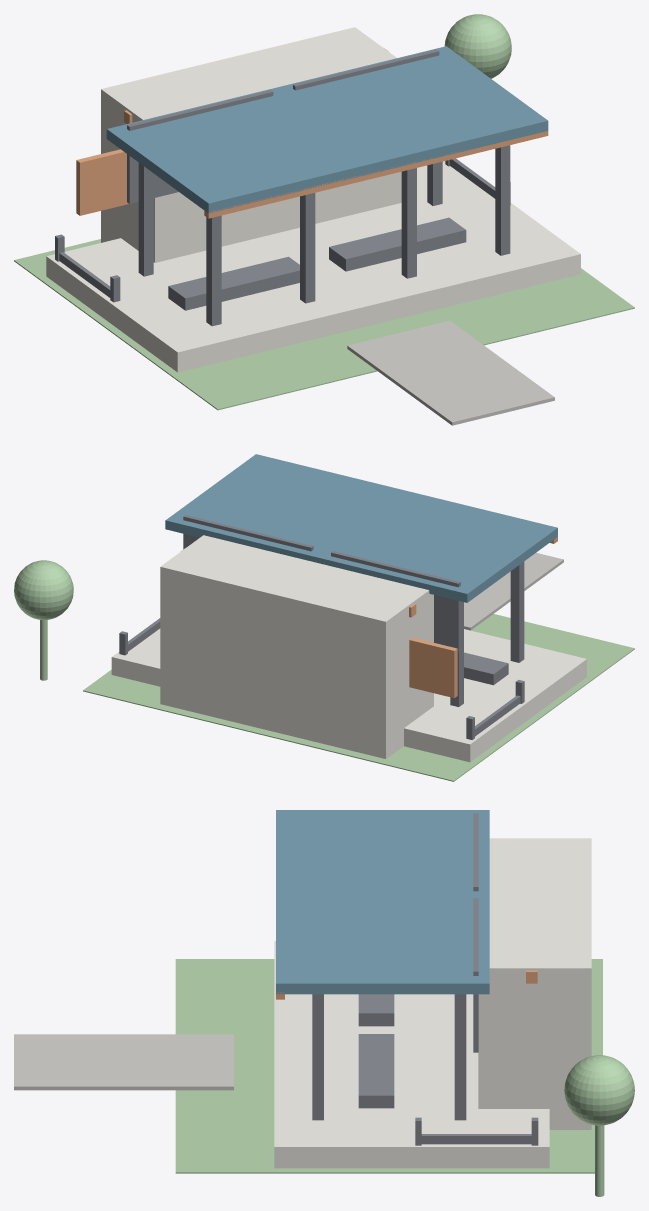
The model's file is BUILDING_CIVIC_SPORTS_PAVILION_001_LOD_CLOSE.glb.
3 renders of one model, top to bottom at view 1: azimuth 30°, elevation 25°; view 2: azimuth 150°, elevation 25°; view 3: azimuth 270°, elevation 25°, orthographic. The views are drawn at different scales.
Visible parts, largest first — view 1: MOD_FOUNDATION_STANDARD_RECT_001, BUILDING_CIVIC_SPORTS_PAVILION_001_CANOPY_ROOF_CLOSE, BUILDING_CIVIC_SPORTS_PAVILION_001_SERVICE_BLOCK_CLOSE, MOD_GROUND_GRASS_STANDARD_001_CLOSE_PATCH, MOD_PATH_STANDARD_001_CLOSE_SURFACE, BUILDING_CIVIC_SPORTS_PAVILION_001_BENCH_CLOSE_1, BUILDING_CIVIC_SPORTS_PAVILION_001_BENCH_CLOSE_0, MOD_TREE_EUCALYPTUS_STANDARD_001_CLOSE_CANOPY, BUILDING_CIVIC_SPORTS_PAVILION_001_SIGN_CLOSE, BUILDING_CIVIC_SPORTS_PAVILION_001_ROOF_EDGE_CLOSE, BUILDING_CIVIC_SPORTS_PAVILION_001_POST_CLOSE_0, BUILDING_CIVIC_SPORTS_PAVILION_001_POST_CLOSE_3 (+7 smaller); view 2: BUILDING_CIVIC_SPORTS_PAVILION_001_SERVICE_BLOCK_CLOSE, BUILDING_CIVIC_SPORTS_PAVILION_001_CANOPY_ROOF_CLOSE, MOD_FOUNDATION_STANDARD_RECT_001, MOD_GROUND_GRASS_STANDARD_001_CLOSE_PATCH, MOD_TREE_EUCALYPTUS_STANDARD_001_CLOSE_CANOPY, BUILDING_CIVIC_SPORTS_PAVILION_001_SIGN_CLOSE, MOD_PATH_STANDARD_001_CLOSE_SURFACE, MOD_WINDOW_RESIDENTIAL_LARGE_001_COASTAL_PANORAMIC_WINDOW_CL, BUILDING_CIVIC_SPORTS_PAVILION_001_POST_CLOSE_0, BUILDING_CIVIC_SPORTS_PAVILION_001_BENCH_CLOSE_0, MOD_WINDOW_RESIDENTIAL_LARGE_001_COASTAL_PANORAMIC_WINDOW_C., BUILDING_CIVIC_SPORTS_PAVILION_001_POST_CLOSE_4 (+2 smaller); view 3: BUILDING_CIVIC_SPORTS_PAVILION_001_CANOPY_ROOF_CLOSE, MOD_FOUNDATION_STANDARD_RECT_001, BUILDING_CIVIC_SPORTS_PAVILION_001_SERVICE_BLOCK_CLOSE, MOD_GROUND_GRASS_STANDARD_001_CLOSE_PATCH, MOD_PATH_STANDARD_001_CLOSE_SURFACE, MOD_TREE_EUCALYPTUS_STANDARD_001_CLOSE_CANOPY, BUILDING_CIVIC_SPORTS_PAVILION_001_BENCH_CLOSE_1, BUILDING_CIVIC_SPORTS_PAVILION_001_POST_CLOSE_5, BUILDING_CIVIC_SPORTS_PAVILION_001_POST_CLOSE_3, MOD_FENCE_STANDARD_001_CLOSE_RAIL.001, BUILDING_CIVIC_SPORTS_PAVILION_001_BENCH_CLOSE_0, MOD_WINDOW_RESIDENTIAL_LARGE_001_COASTAL_PANORAMIC_WINDOW_C. (+1 smaller).
Boxes of the visible parts, <box> form: MOD_FOUNDATION_STANDARD_RECT_001: <box>46,161,580,372</box>; BUILDING_CIVIC_SPORTS_PAVILION_001_CANOPY_ROOF_CLOSE: <box>106,46,548,213</box>; BUILDING_CIVIC_SPORTS_PAVILION_001_SERVICE_BLOCK_CLOSE: <box>101,27,401,262</box>; MOD_GROUND_GRASS_STANDARD_001_CLOSE_PATCH: <box>14,239,634,410</box>; MOD_PATH_STANDARD_001_CLOSE_SURFACE: <box>347,320,554,425</box>; BUILDING_CIVIC_SPORTS_PAVILION_001_BENCH_CLOSE_1: <box>329,217,466,271</box>; BUILDING_CIVIC_SPORTS_PAVILION_001_BENCH_CLOSE_0: <box>168,256,299,310</box>; MOD_TREE_EUCALYPTUS_STANDARD_001_CLOSE_CANOPY: <box>444,14,511,78</box>; BUILDING_CIVIC_SPORTS_PAVILION_001_SIGN_CLOSE: <box>76,149,128,215</box>; BUILDING_CIVIC_SPORTS_PAVILION_001_ROOF_EDGE_CLOSE: <box>204,131,548,218</box>; BUILDING_CIVIC_SPORTS_PAVILION_001_POST_CLOSE_0: <box>206,215,221,326</box>; BUILDING_CIVIC_SPORTS_PAVILION_001_POST_CLOSE_3: <box>495,145,510,255</box>; BUILDING_CIVIC_SPORTS_PAVILION_001_SERVICE_BLOCK_CLOSE: <box>160,535,433,758</box>; BUILDING_CIVIC_SPORTS_PAVILION_001_CANOPY_ROOF_CLOSE: <box>165,454,557,602</box>; MOD_FOUNDATION_STANDARD_RECT_001: <box>111,628,586,762</box>; MOD_GROUND_GRASS_STANDARD_001_CLOSE_PATCH: <box>83,614,634,781</box>; MOD_TREE_EUCALYPTUS_STANDARD_001_CLOSE_CANOPY: <box>14,560,73,620</box>; BUILDING_CIVIC_SPORTS_PAVILION_001_SIGN_CLOSE: <box>409,637,457,698</box>; MOD_PATH_STANDARD_001_CLOSE_SURFACE: <box>464,552,563,630</box>; MOD_WINDOW_RESIDENTIAL_LARGE_001_COASTAL_PANORAMIC_WINDOW_CL: <box>331,551,460,652</box>; BUILDING_CIVIC_SPORTS_PAVILION_001_POST_CLOSE_0: <box>510,561,524,662</box>; BUILDING_CIVIC_SPORTS_PAVILION_001_BENCH_CLOSE_0: <box>464,652,508,685</box>; MOD_WINDOW_RESIDENTIAL_LARGE_001_COASTAL_PANORAMIC_WINDOW_C.: <box>183,515,313,551</box>; BUILDING_CIVIC_SPORTS_PAVILION_001_POST_CLOSE_4: <box>450,601,463,706</box>; BUILDING_CIVIC_SPORTS_PAVILION_001_CANOPY_ROOF_CLOSE: <box>276,810,489,994</box>; MOD_FOUNDATION_STANDARD_RECT_001: <box>274,941,549,1168</box>; BUILDING_CIVIC_SPORTS_PAVILION_001_SERVICE_BLOCK_CLOSE: <box>478,838,591,1129</box>; MOD_GROUND_GRASS_STANDARD_001_CLOSE_PATCH: <box>175,959,602,1173</box>; MOD_PATH_STANDARD_001_CLOSE_SURFACE: <box>14,1034,233,1090</box>; MOD_TREE_EUCALYPTUS_STANDARD_001_CLOSE_CANOPY: <box>564,1055,634,1125</box>; BUILDING_CIVIC_SPORTS_PAVILION_001_BENCH_CLOSE_1: <box>358,1034,394,1108</box>; BUILDING_CIVIC_SPORTS_PAVILION_001_POST_CLOSE_5: <box>454,994,466,1120</box>; BUILDING_CIVIC_SPORTS_PAVILION_001_POST_CLOSE_3: <box>312,994,323,1120</box>; MOD_FENCE_STANDARD_001_CLOSE_RAIL.001: <box>421,1134,531,1144</box>; BUILDING_CIVIC_SPORTS_PAVILION_001_BENCH_CLOSE_0: <box>358,994,394,1026</box>; MOD_WINDOW_RESIDENTIAL_LARGE_001_COASTAL_PANORAMIC_WINDOW_C.: <box>473,898,478,1052</box>.
Size of the model in its own units: 9.2 by 2.97 by 9.6.
